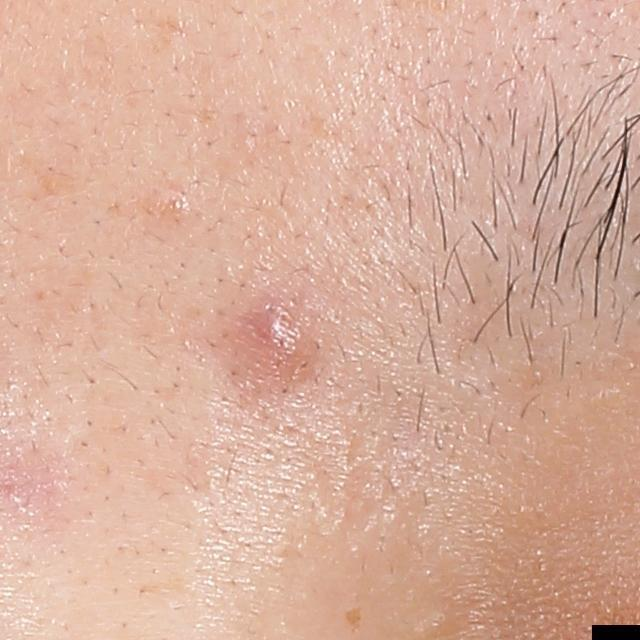melasma: (341, 604, 363, 637)
